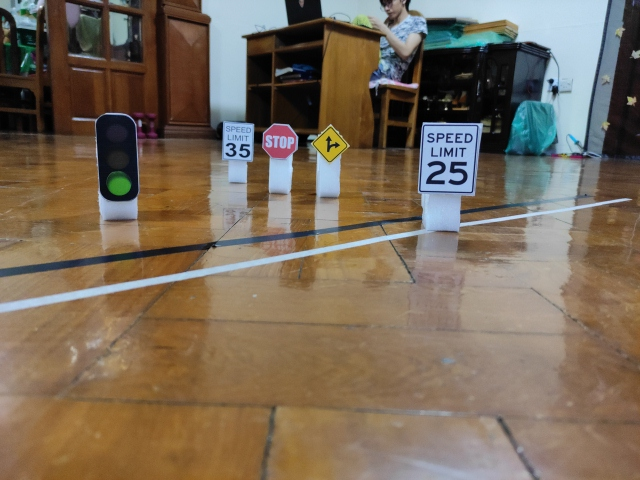Green Traffic Light: (96, 112, 139, 202)
Speed Limit 25: (419, 123, 481, 197)
Speed Limit 35: (222, 120, 254, 159)
Stop Sign: (262, 122, 298, 161)
Straight Or Right Sign: (311, 126, 348, 162)
